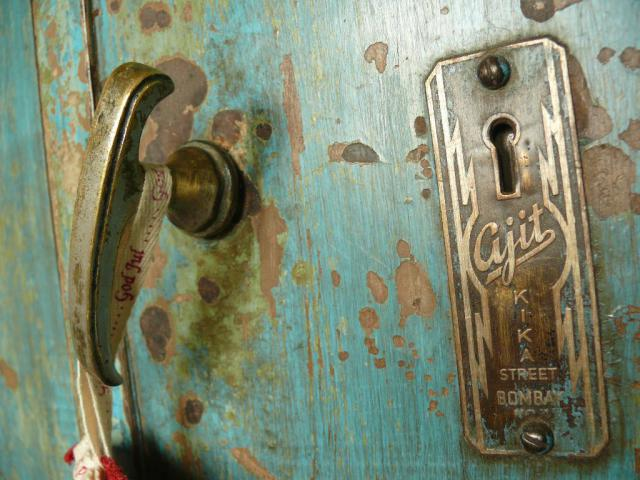Door-handle: (70, 61, 244, 386)
